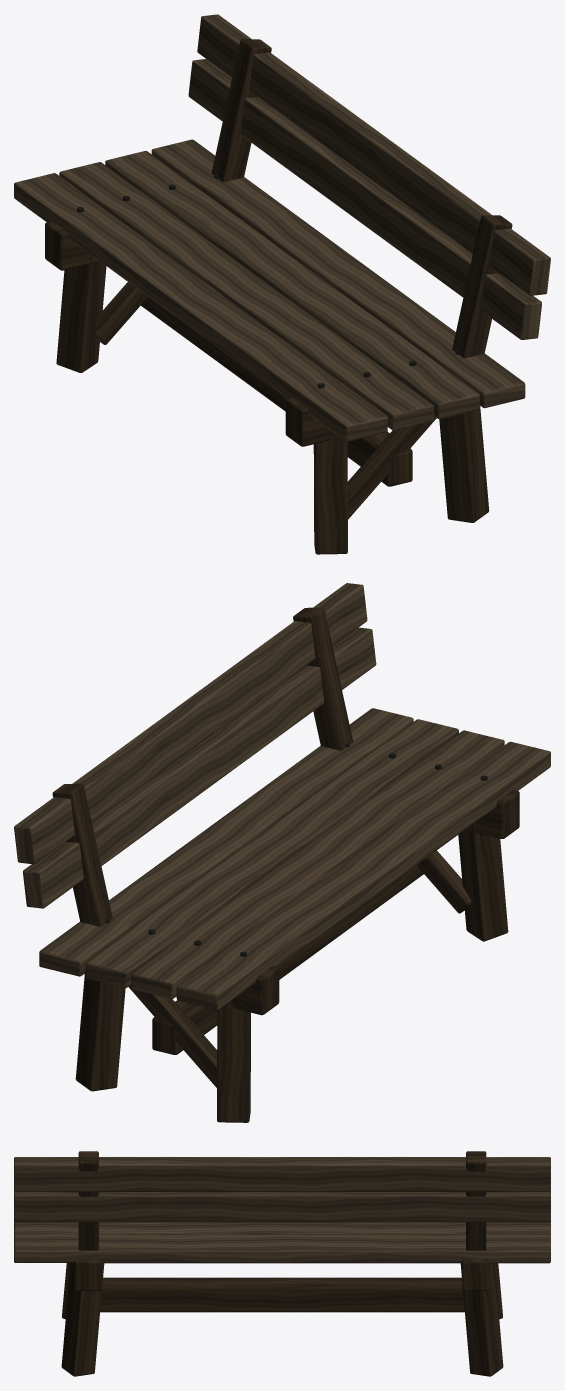
The model's file is trail-bench.glb.
3 views of the same model, one above another, from view 1: azimuth 30°, elevation 25°; view 2: azimuth 150°, elevation 25°; view 3: azimuth 270°, elevation 25° (orthographic). The views are drawn at different scales.
Parts seen in each view (by area): view 1: SM_AlpineTrailBench; view 2: SM_AlpineTrailBench; view 3: SM_AlpineTrailBench.
Part boxes in pixels (x1,y1,x2,y2): SM_AlpineTrailBench: [14, 14, 550, 554]; SM_AlpineTrailBench: [14, 583, 550, 1122]; SM_AlpineTrailBench: [14, 1151, 550, 1376].
Size of the model in its own units: 0.7176 by 0.9204 by 1.94.
Materials: 3 (3 with a texture image).
